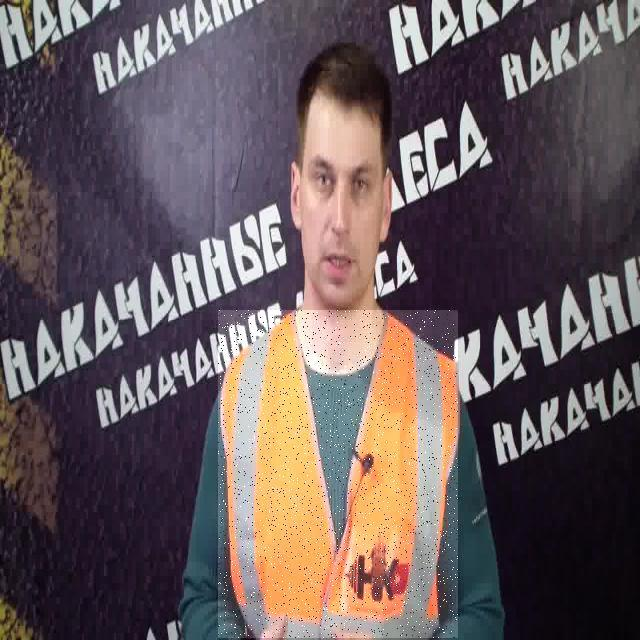Person: (163, 19, 529, 640)
Safety Vest: (218, 310, 458, 638)
no-helmet: (284, 34, 397, 98), (283, 105, 291, 106)
